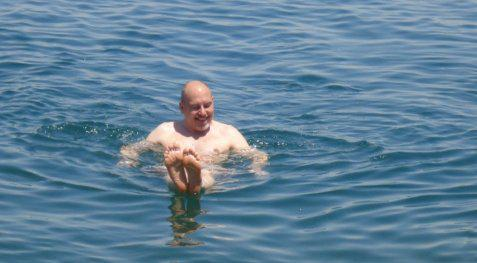human: (115, 79, 269, 194)
